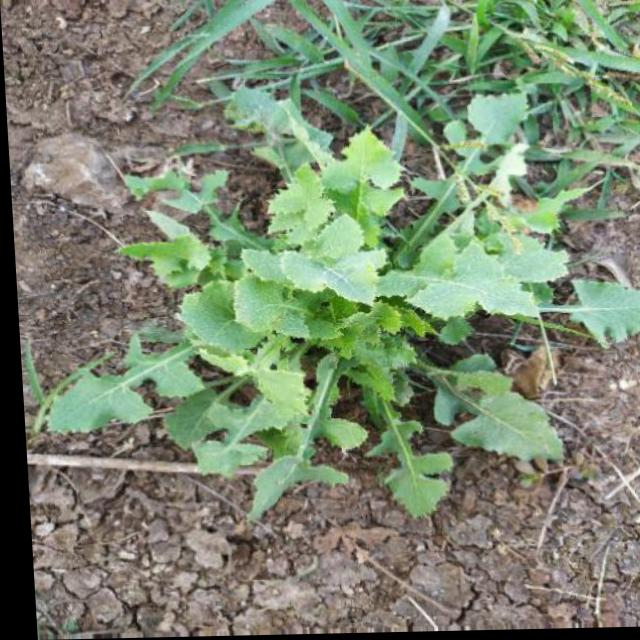weed: (53, 144, 640, 533)
